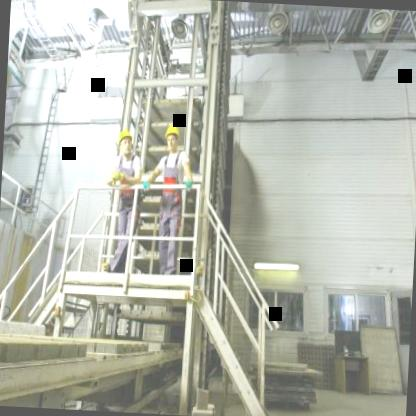helmet: (114, 126, 136, 157), (161, 122, 180, 152)
